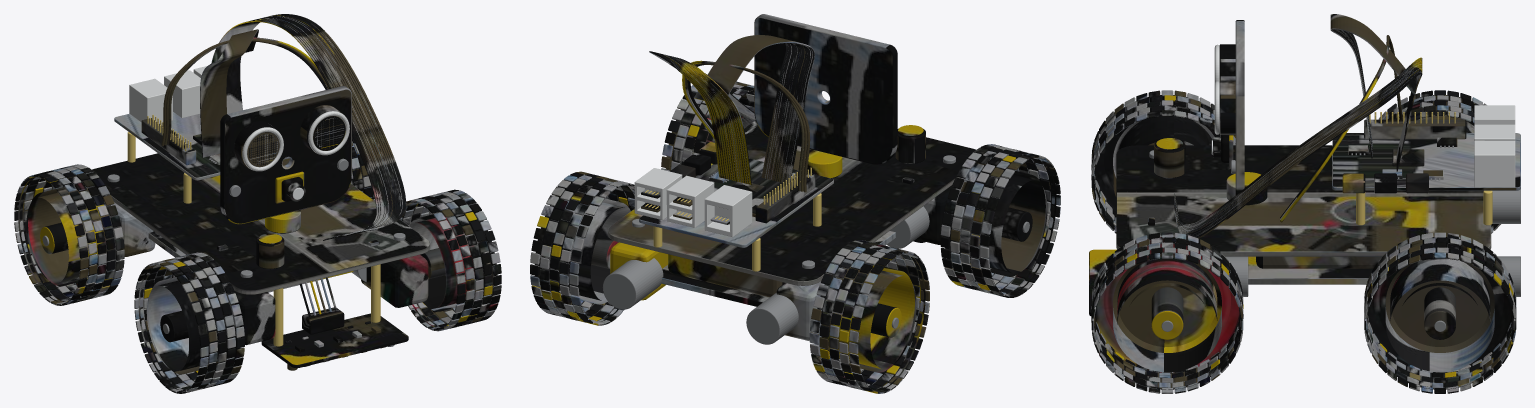
The model's file is omega1-rover.glb.
3 renders of one model, left to right at view 1: azimuth 30°, elevation 25°; view 2: azimuth 150°, elevation 25°; view 3: azimuth 270°, elevation 25°, orthographic. The views are drawn at different scales.
Parts seen in each view (by area): view 1: chassis, sensor_head, wheel_front_left, wheel_rear_left, wheel_front_right, wheel_rear_right; view 2: chassis, wheel_rear_left, wheel_front_left, sensor_head, wheel_rear_right, wheel_front_right; view 3: chassis, wheel_front_right, wheel_rear_right, wheel_front_left, sensor_head, wheel_rear_left.
Part boxes in pixels (x1,y1,x2,y2): chassis: (92,14,430,370); sensor_head: (220,86,351,233); wheel_front_left: (134,252,244,393); wheel_rear_left: (14,164,124,305); wheel_front_right: (400,189,501,331); wheel_rear_right: (350,136,375,200); chassis: (603,35,975,344); wheel_rear_left: (809,240,929,393); wheel_front_left: (940,144,1060,297); sensor_head: (754,14,897,178); wheel_rear_right: (530,171,634,325); wheel_front_right: (661,81,754,171); chassis: (1089,14,1520,316); wheel_front_right: (1091,232,1243,393); wheel_rear_right: (1364,232,1516,393); wheel_front_left: (1091,90,1235,233); sensor_head: (1211,20,1267,205); wheel_rear_left: (1378,90,1500,233).
Bounding box in the file's own units: 0.176 × 0.1403 × 0.19.
1 material, 1 textured.
